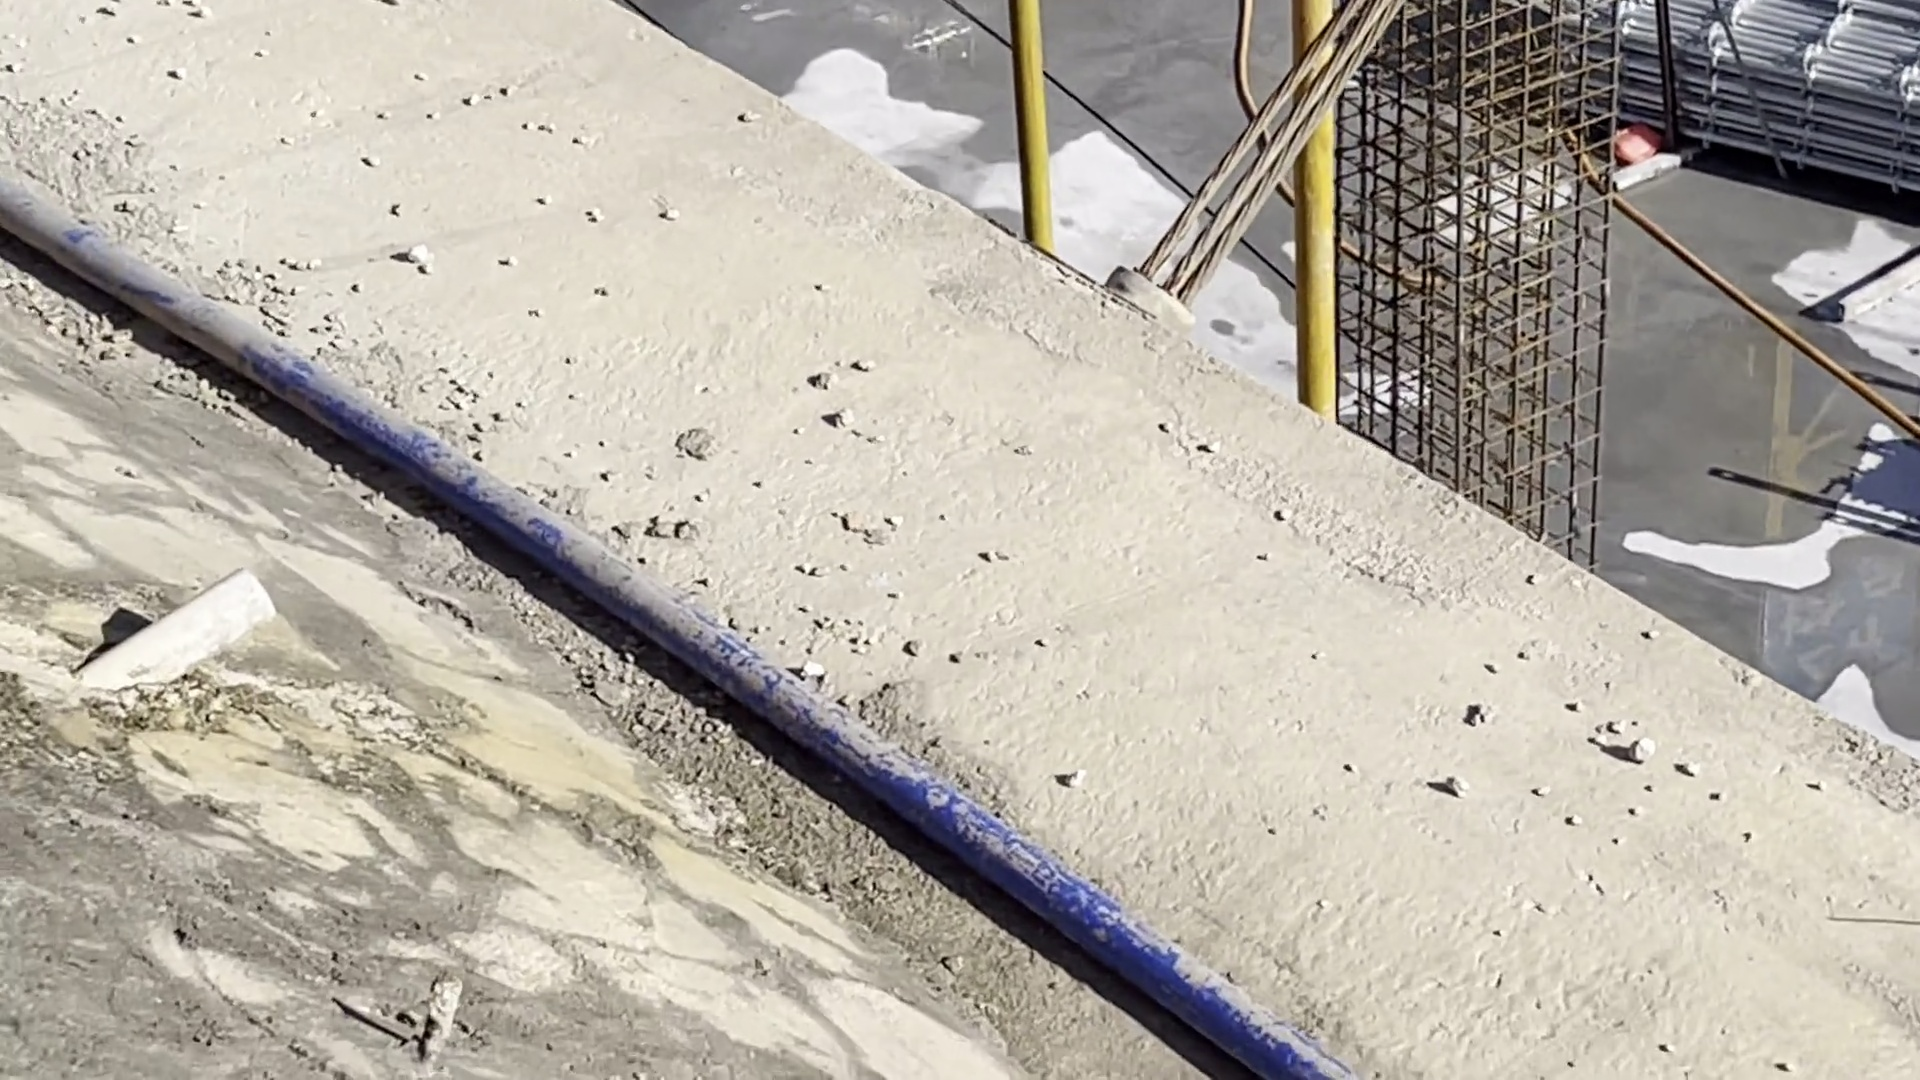scaffold: (1581, 1, 1920, 186)
